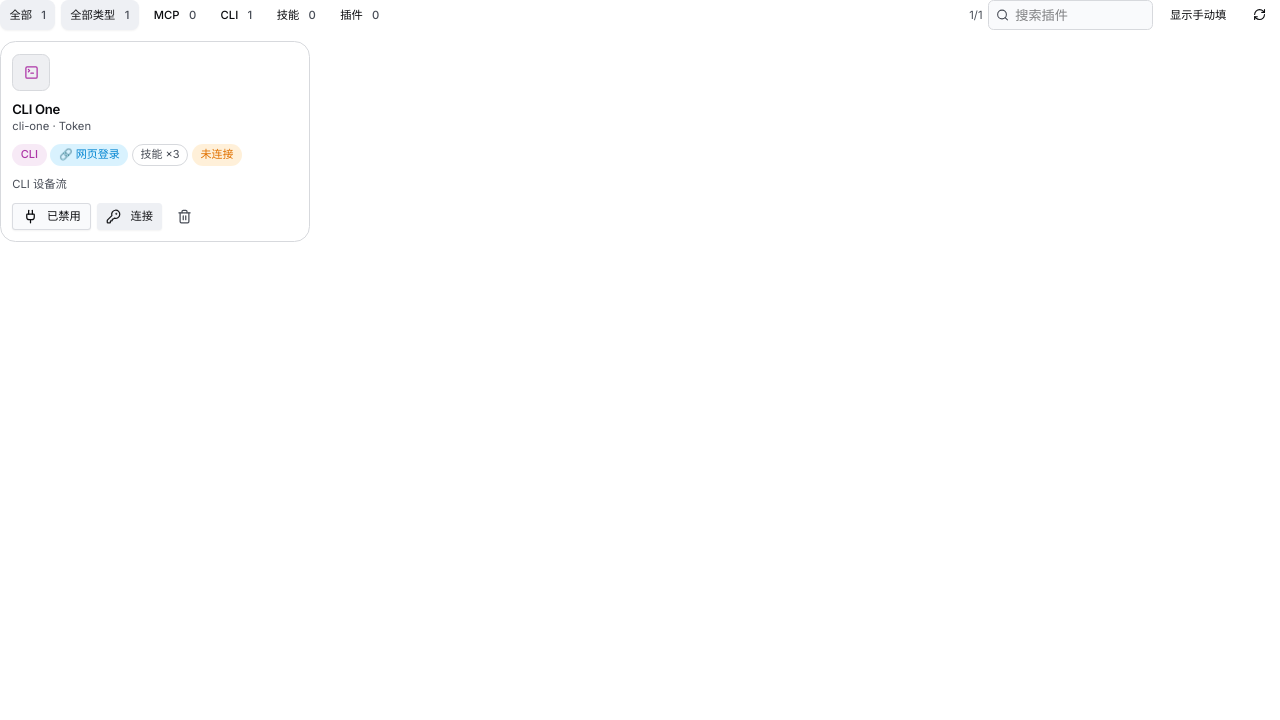
CapabilityMarketPanel › 取消设备流失败时保持弹窗打开
The image size is (1280, 720).
Click the button "连接": (130,216) [97,203,162,230]
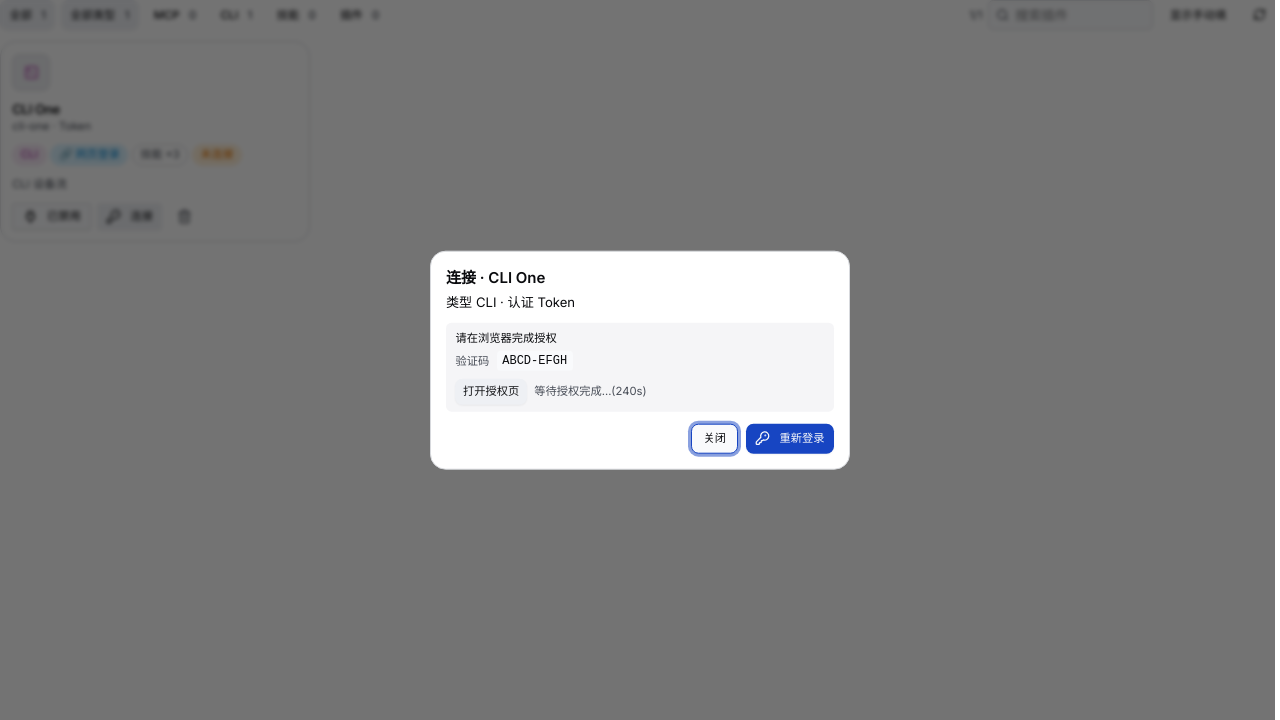
Expected: the text "ABCD-EFGH" is shown, [497,351,573,371]
Click the button "关闭": (715,438) [691,423,738,453]
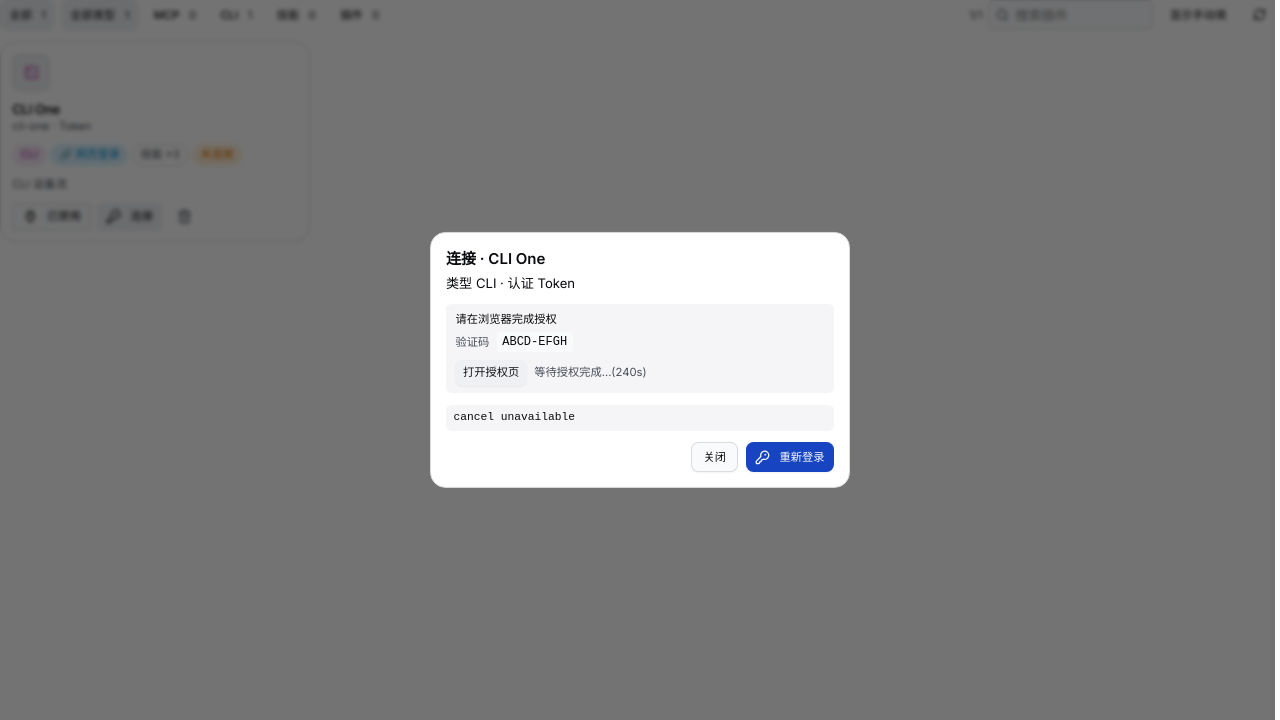
Expected: the text "ABCD-EFGH" is shown, [497,332,573,352]
Expected: the text "cancel unavailable" is shown, [446,405,834,431]
